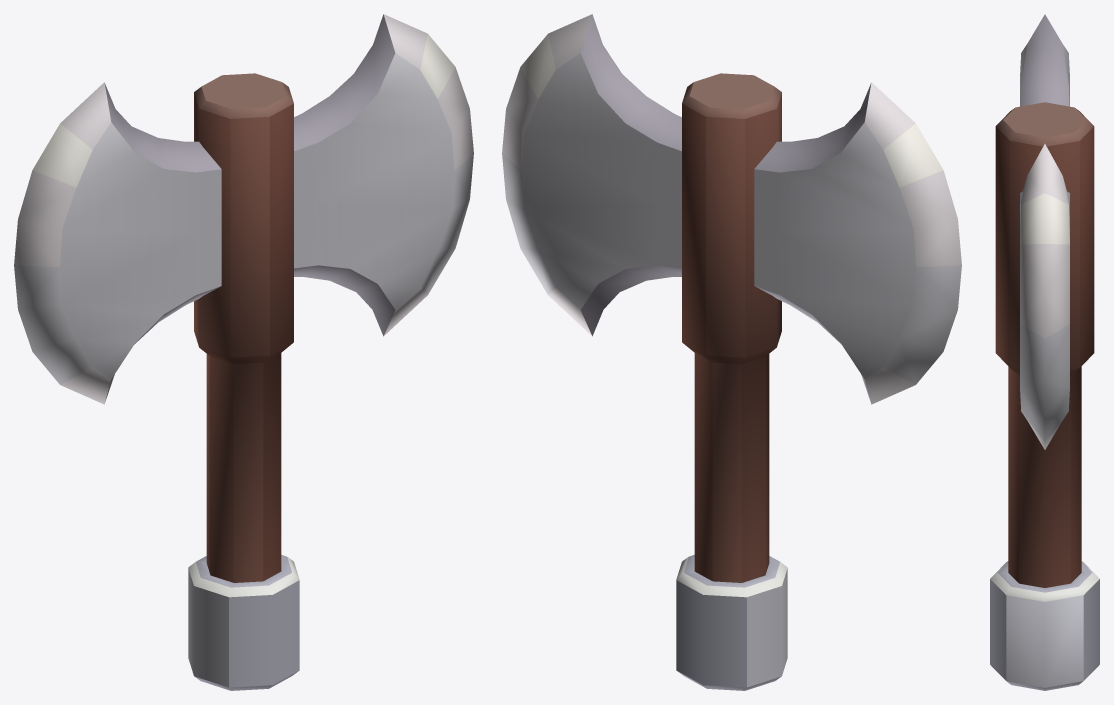
Rendered from axe_1.FBX.
The picture shows the model from 3 angles, left to right: view 1: azimuth 30°, elevation 25°; view 2: azimuth 150°, elevation 25°; view 3: azimuth 270°, elevation 25°; orthographic projection. The views are drawn at different scales.
Parts seen in each view (by area): view 1: axe_1; view 2: axe_1; view 3: axe_1.
Part boxes in pixels (x1,y1,x2,y2): axe_1: (14, 14, 473, 690); axe_1: (502, 14, 961, 690); axe_1: (990, 14, 1099, 690).
Size of the model in its own units: 69.24 by 89.54 by 15.05.
1 material, 1 textured.
